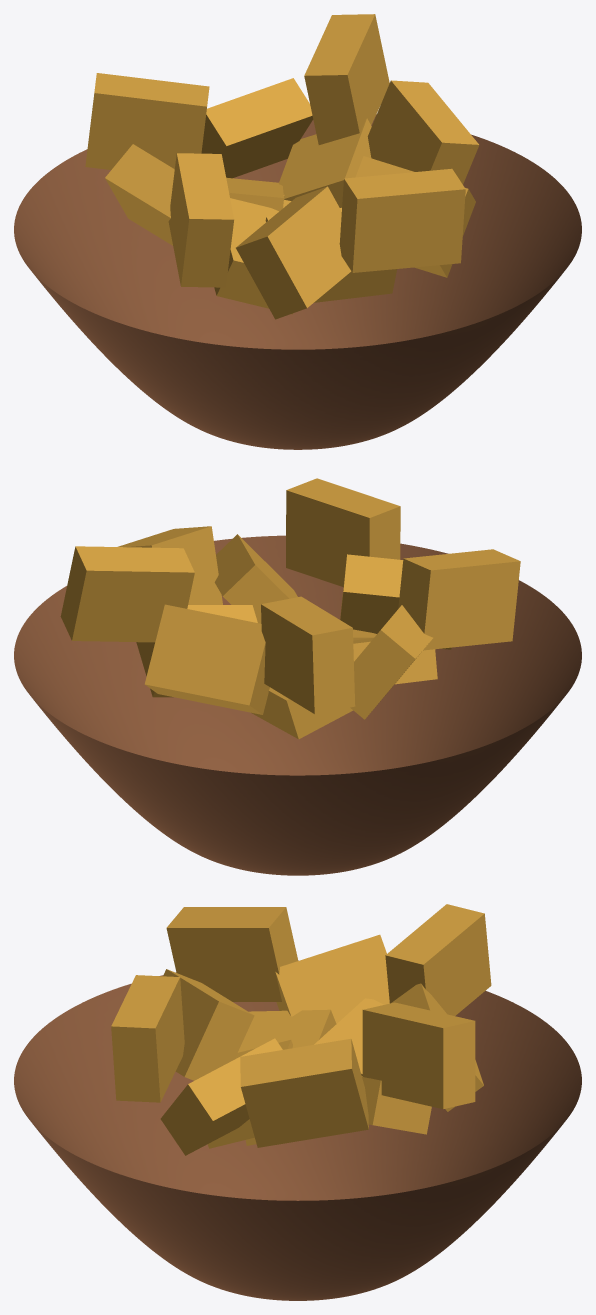
Rendered from fritas-2-hero.glb.
The picture shows the model from 3 angles, top to bottom: view 1: azimuth 30°, elevation 25°; view 2: azimuth 150°, elevation 25°; view 3: azimuth 270°, elevation 25°; orthographic projection.
Bounding box in the file's own units: 0.15 × 0.0866 × 0.15.
